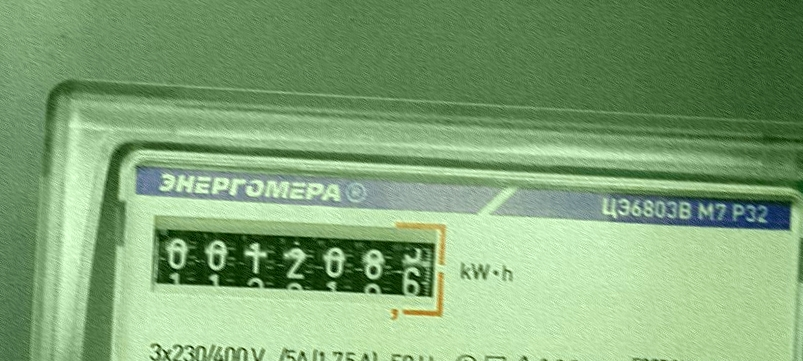0: (319, 244, 346, 280), (202, 236, 227, 273), (165, 234, 186, 272)
1: (243, 239, 262, 277)
2: (280, 245, 307, 281)
6: (397, 263, 421, 298)
8: (358, 246, 383, 283)
screen: (138, 203, 454, 333)
